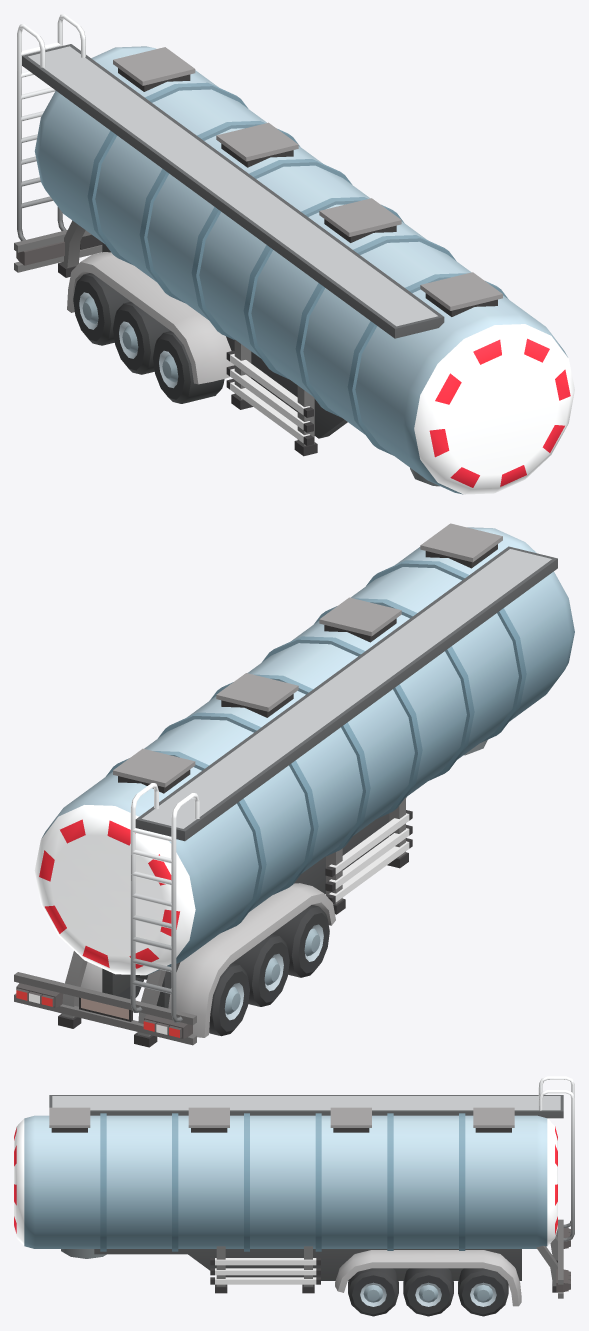
File: Tank_Trailer_01.glb
3 renders of one model, top to bottom at view 1: azimuth 30°, elevation 25°; view 2: azimuth 150°, elevation 25°; view 3: azimuth 270°, elevation 25°, orthographic. The views are drawn at different scales.
Visible parts, largest first — view 1: Tank_Trailer_01, Wheel_203, Wheel_202, Wheel_201; view 2: Tank_Trailer_01, Wheel_203, Wheel_202, Wheel_201; view 3: Tank_Trailer_01, Wheel_205, Wheel_204, Wheel_206.
Part boxes in pixels (bbox=[...]): Tank_Trailer_01: bbox=[14, 14, 574, 494]; Wheel_203: bbox=[153, 331, 224, 403]; Wheel_202: bbox=[113, 302, 170, 374]; Wheel_201: bbox=[73, 273, 130, 345]; Tank_Trailer_01: bbox=[14, 523, 574, 1047]; Wheel_203: bbox=[272, 905, 329, 977]; Wheel_202: bbox=[232, 934, 289, 1006]; Wheel_201: bbox=[209, 963, 249, 1036]; Tank_Trailer_01: bbox=[14, 1076, 574, 1306]; Wheel_205: bbox=[403, 1268, 453, 1316]; Wheel_204: bbox=[348, 1268, 398, 1316]; Wheel_206: bbox=[458, 1268, 508, 1316].
Size of the model in its own units: 2.88 by 4.26 by 11.35.
2 materials, 2 textured.
